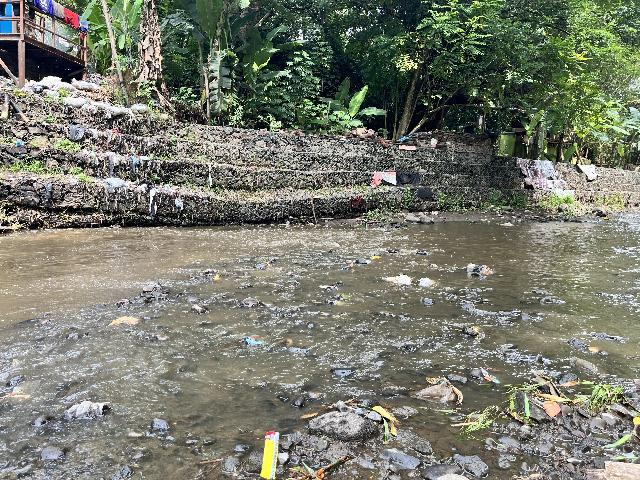Sampah Anorganik: (258, 429, 280, 480), (467, 261, 497, 277), (380, 276, 412, 285), (243, 335, 265, 345), (418, 279, 434, 287), (316, 286, 340, 291), (368, 255, 379, 261), (283, 270, 291, 277)
Sampah Organik: (511, 375, 627, 421), (298, 398, 404, 441), (408, 376, 466, 407), (589, 459, 640, 480), (475, 364, 500, 386), (326, 292, 352, 309), (267, 281, 301, 294), (106, 316, 136, 326), (0, 389, 30, 399), (268, 339, 296, 346), (469, 326, 484, 337), (113, 297, 132, 305), (246, 300, 259, 307), (588, 348, 600, 354), (212, 272, 219, 281), (266, 261, 272, 267), (350, 261, 353, 266)
